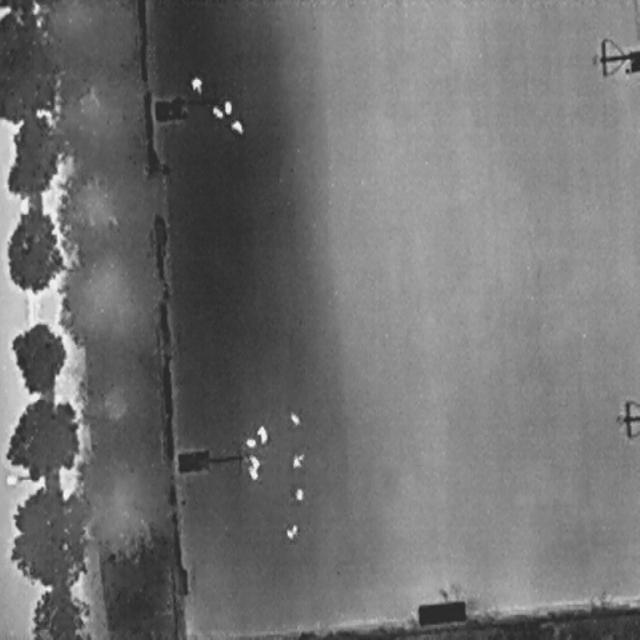Person: (253, 422, 270, 448), (227, 114, 246, 135), (245, 462, 261, 482), (208, 101, 224, 120), (190, 73, 203, 95), (286, 408, 301, 427), (248, 451, 261, 469), (291, 450, 303, 468), (284, 522, 297, 538), (224, 100, 232, 115), (293, 488, 303, 500), (244, 438, 257, 447)
